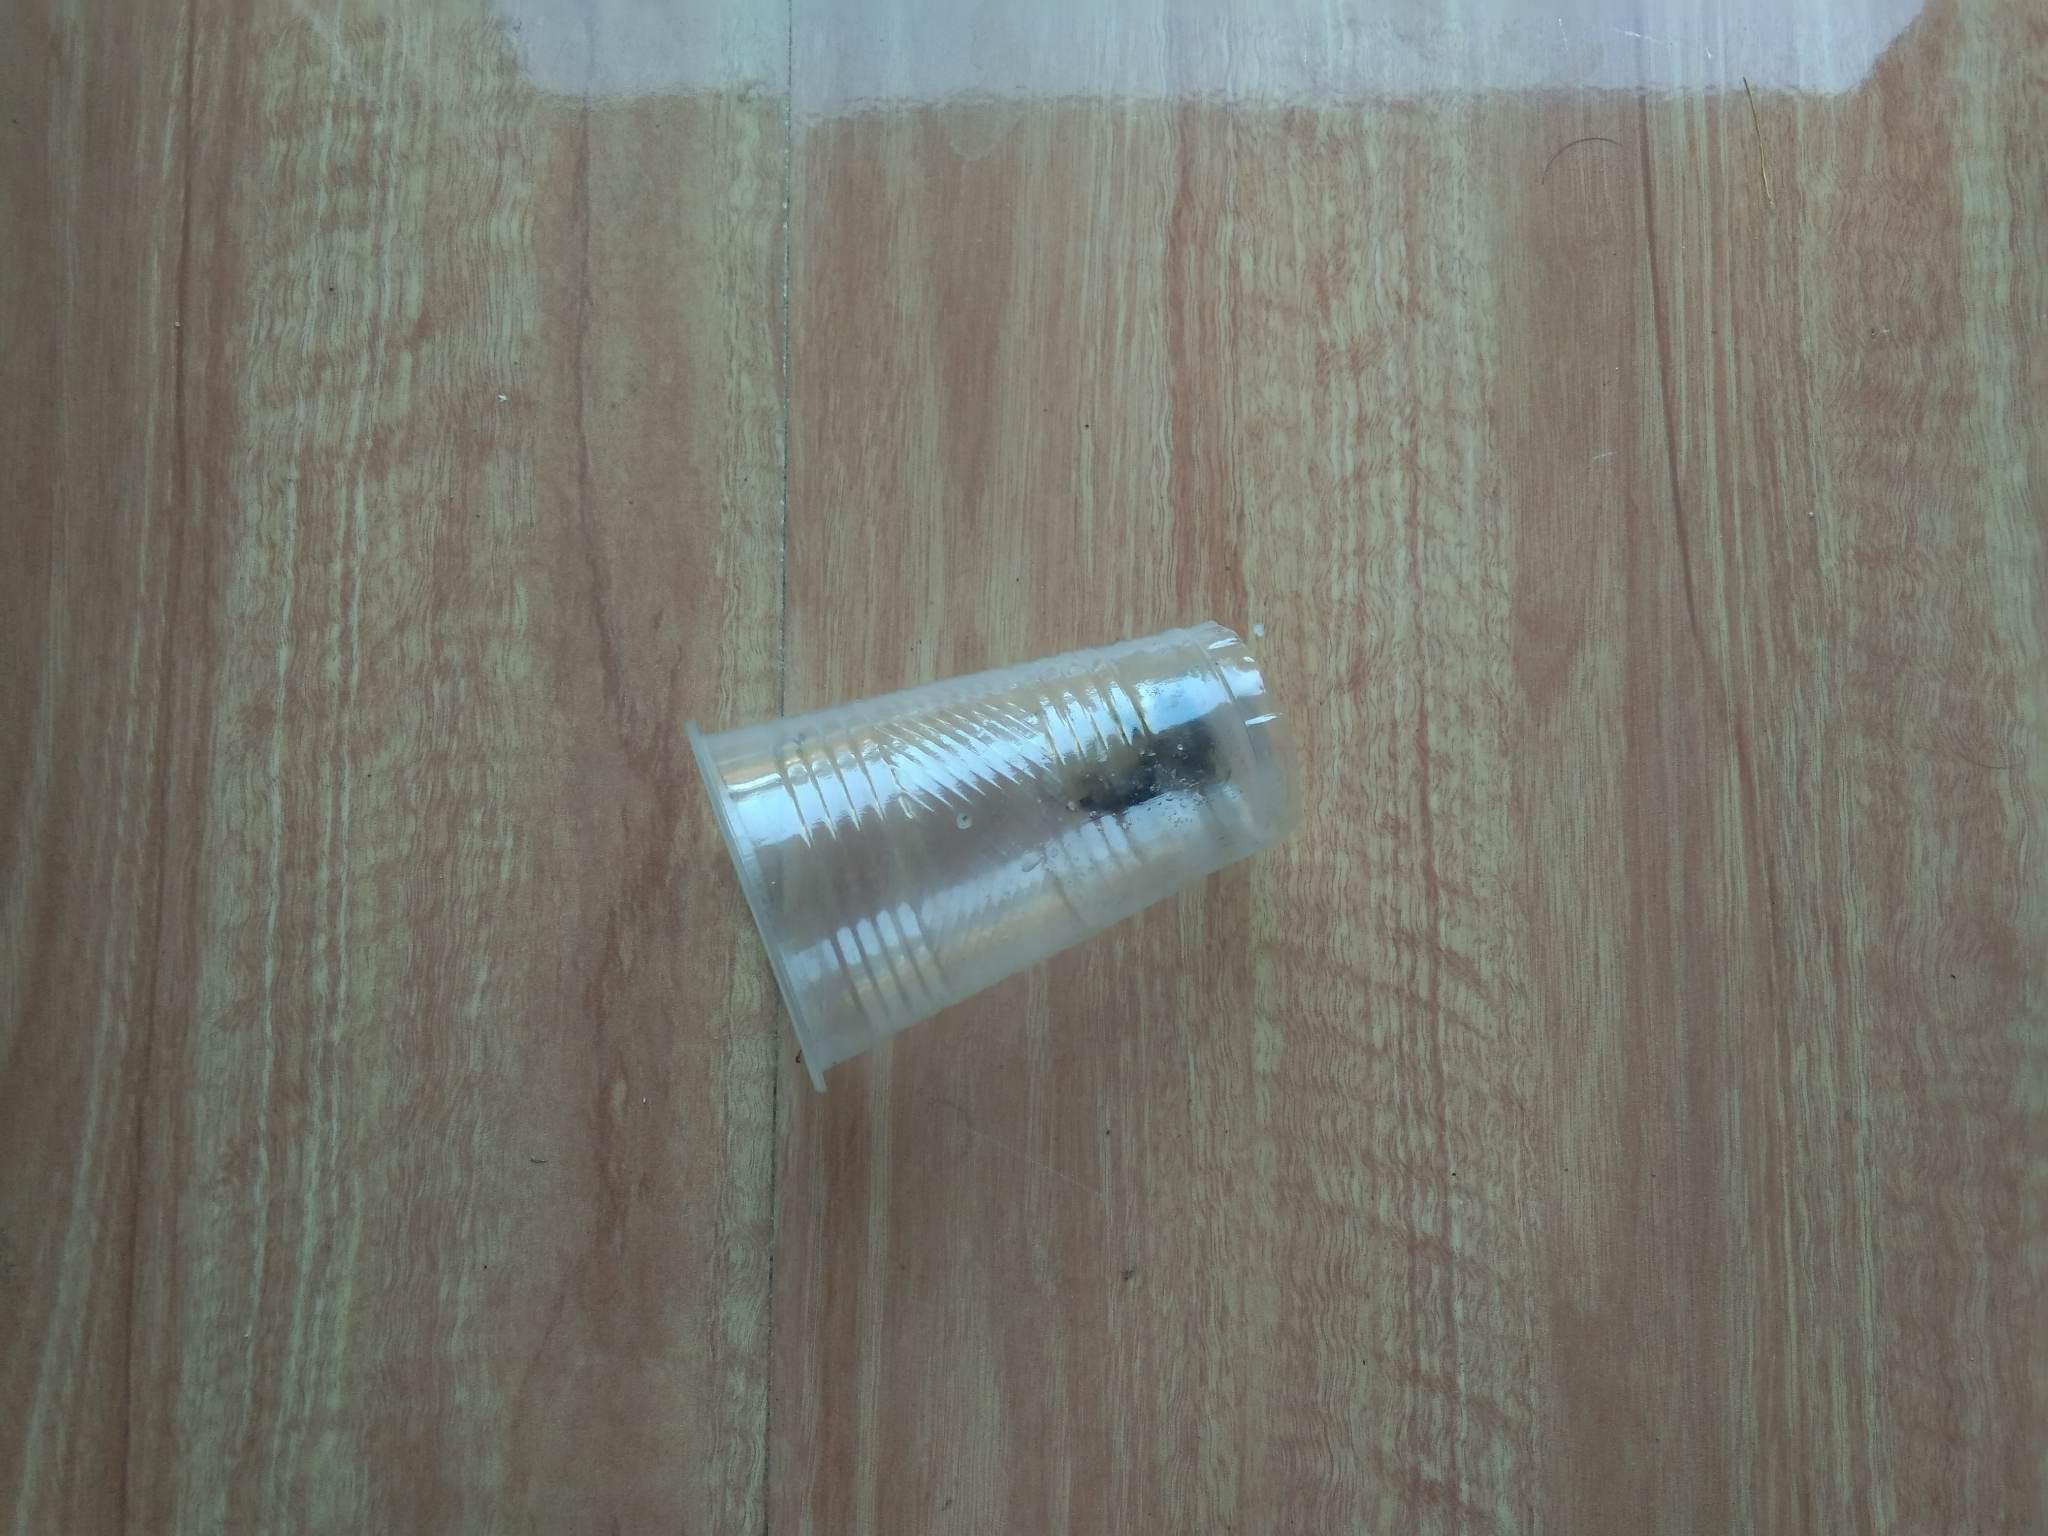plastic: (627, 557, 1332, 1100)
